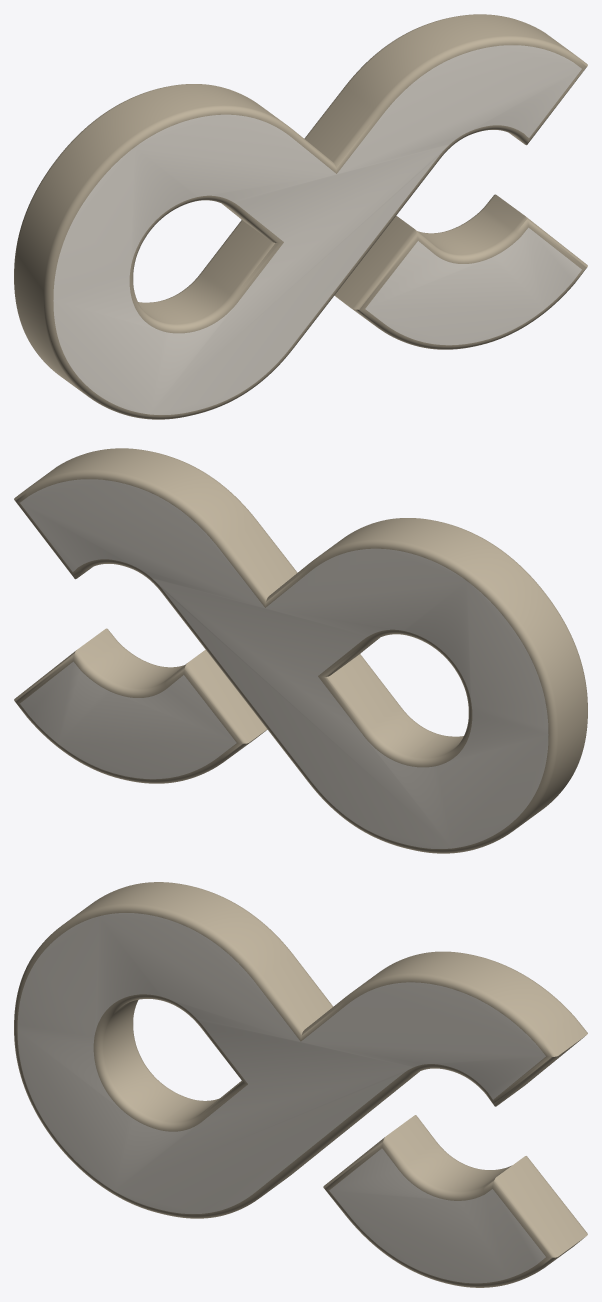
File: oc-monogram.glb
The picture shows the model from 3 angles, top to bottom: view 1: azimuth 30°, elevation 25°; view 2: azimuth 150°, elevation 25°; view 3: azimuth 330°, elevation 25°; orthographic projection.
Visible parts, largest first — view 1: OC_Principal, C_ArcInferieur; view 2: OC_Principal, C_ArcInferieur; view 3: OC_Principal, C_ArcInferieur.
Boxes of the visible parts, x1,y1,x2,y2 form: OC_Principal: (14, 14, 587, 419); C_ArcInferieur: (334, 194, 587, 349); OC_Principal: (14, 448, 587, 853); C_ArcInferieur: (14, 628, 267, 783); OC_Principal: (14, 882, 587, 1218); C_ArcInferieur: (323, 1115, 587, 1287).
Bounding box in the file's own units: 4.19 × 2.25 × 0.48.
